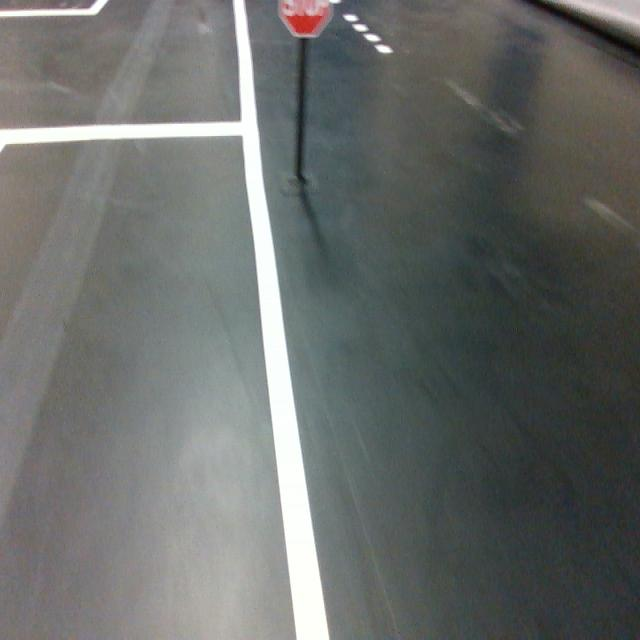stop-sign: (277, 0, 334, 39)
